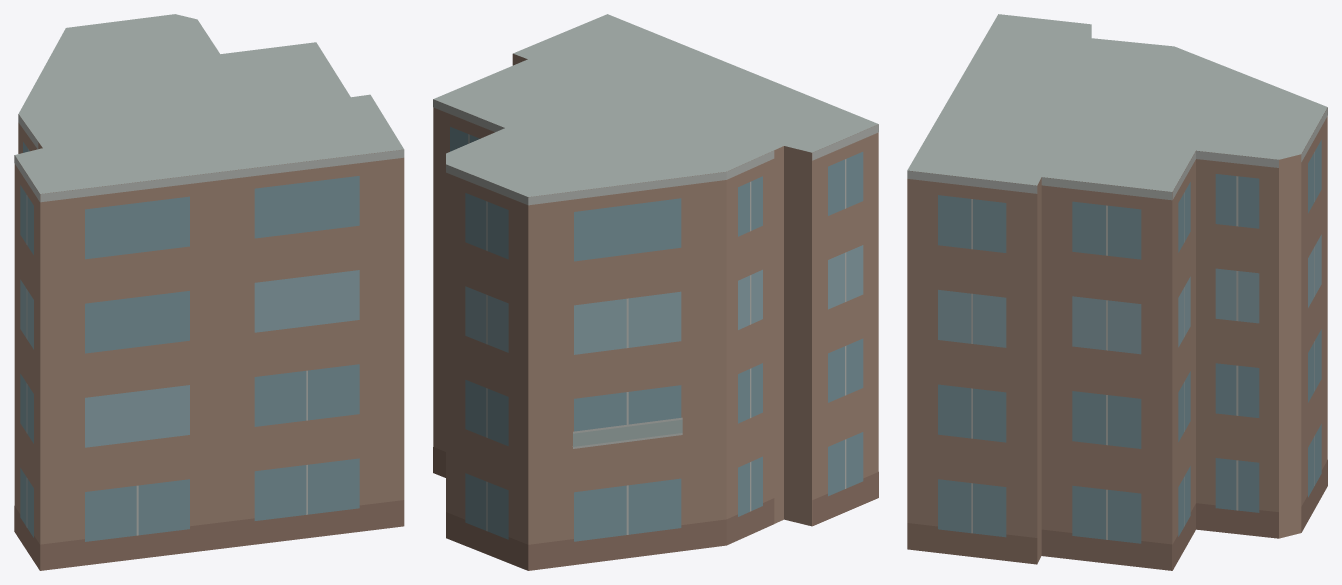
File: survey-upis-32896960.glb
3 renders of one model, left to right at view 1: azimuth 30°, elevation 25°; view 2: azimuth 150°, elevation 25°; view 3: azimuth 270°, elevation 25°, orthographic.
Parts seen in each view (by area): view 1: survey-upis-32896960.tmp; view 2: survey-upis-32896960.tmp; view 3: survey-upis-32896960.tmp.
Part boxes in pixels (<box>): survey-upis-32896960.tmp: <box>14,14,404,570</box>; survey-upis-32896960.tmp: <box>433,14,878,570</box>; survey-upis-32896960.tmp: <box>907,14,1327,570</box>.
Size of the model in its own units: 11.19 by 11.1 by 11.18.
